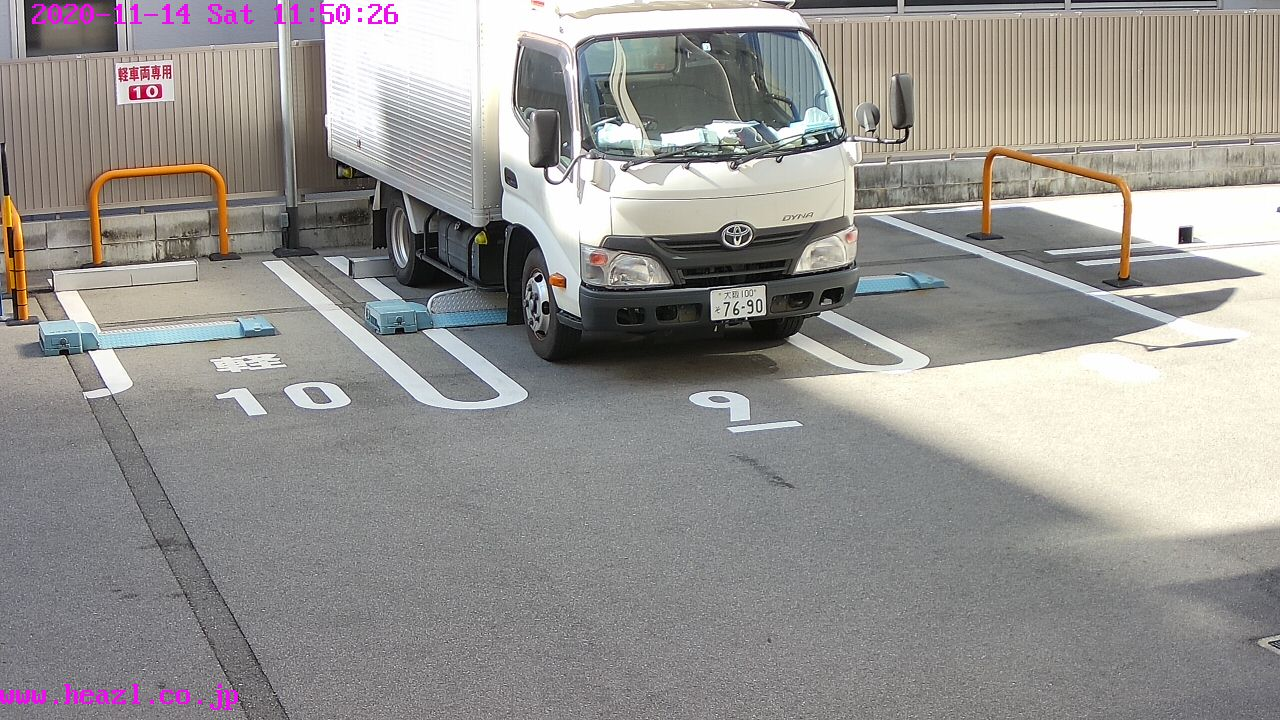number_plate: (710, 287, 767, 315)
